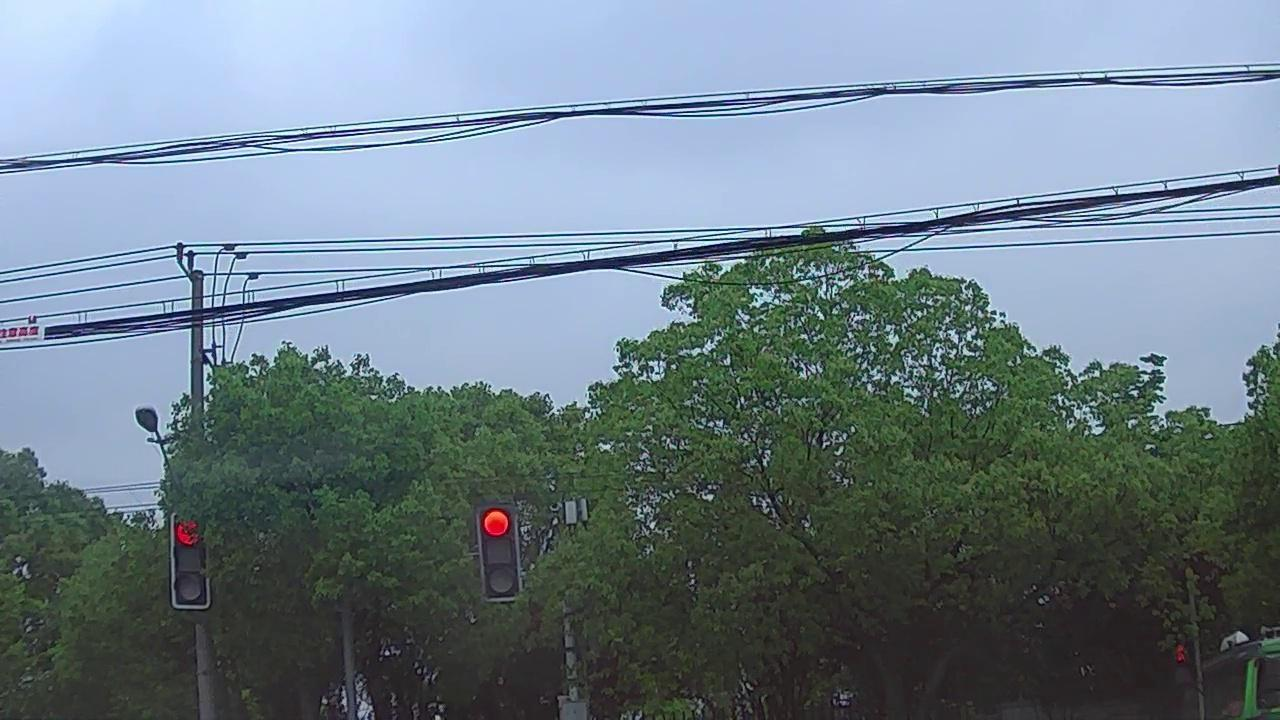traffic_light: (477, 506, 518, 601), (171, 511, 210, 609)
